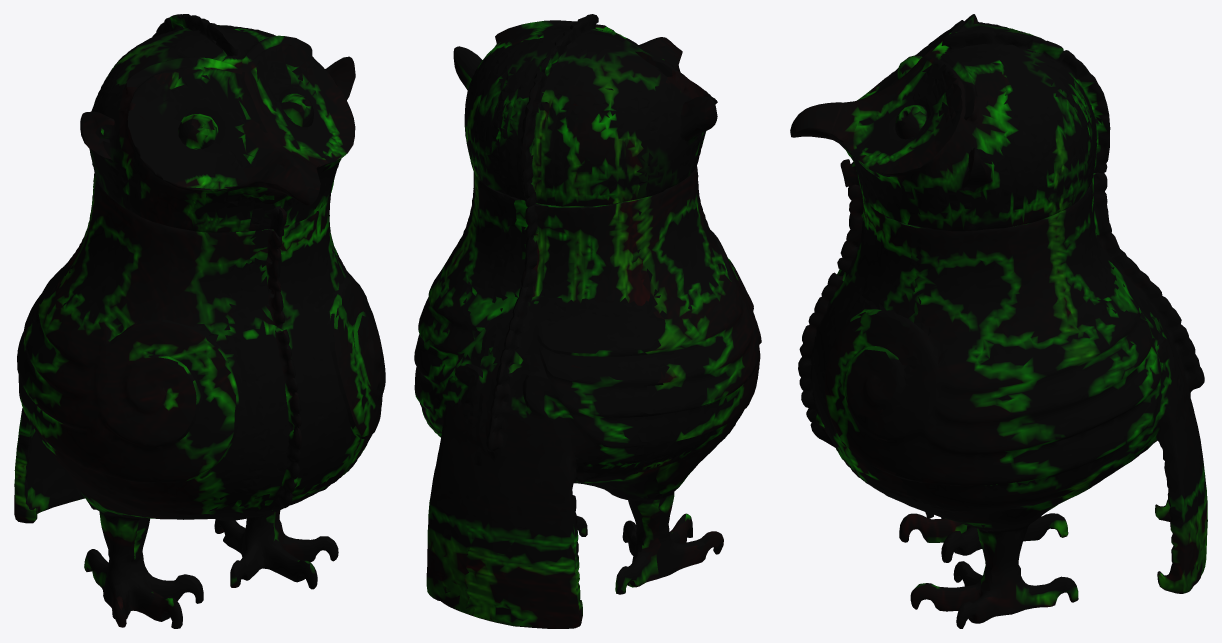
The picture shows the model from 3 angles, left to right: view 1: azimuth 30°, elevation 25°; view 2: azimuth 150°, elevation 25°; view 3: azimuth 270°, elevation 25°; orthographic projection. The views are drawn at different scales.
Parts seen in each view (by area): view 1: owl_zun; view 2: owl_zun; view 3: owl_zun.
Part boxes in pixels (x1,y1,x2,y2): owl_zun: (14, 14, 385, 628); owl_zun: (414, 14, 761, 628); owl_zun: (790, 14, 1207, 628).
Size of the model in its own units: 0.2057 by 0.348 by 0.2402.
1 material, 1 textured.
